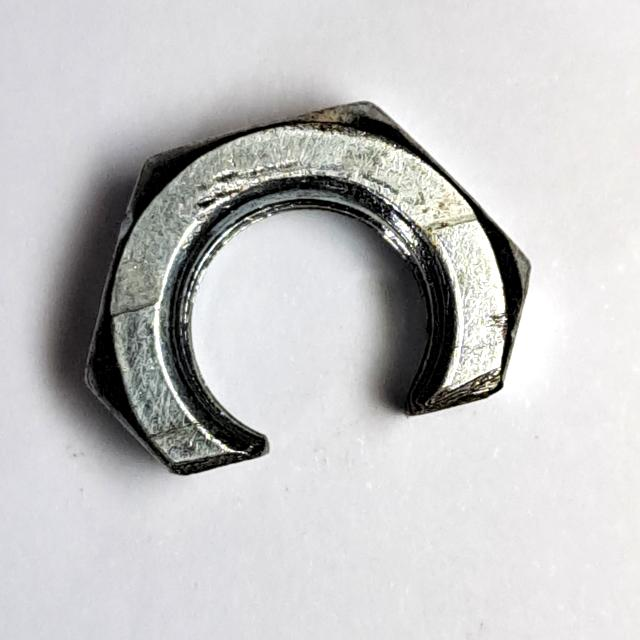Fracture: (74, 87, 539, 492)
